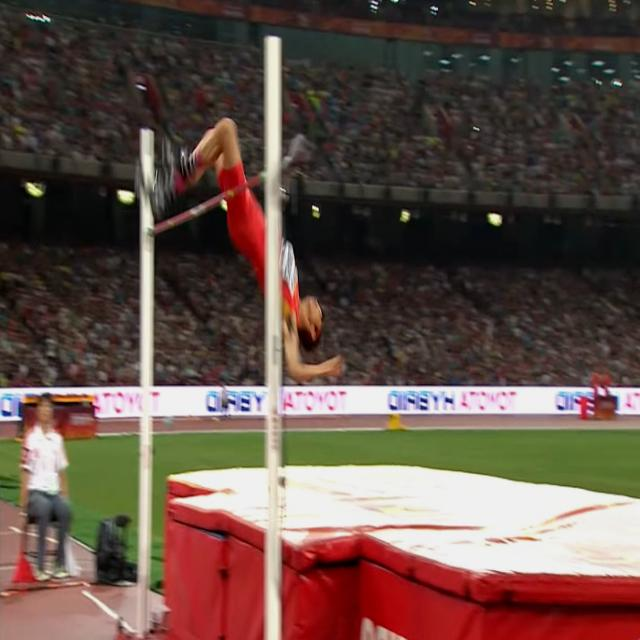land: (139, 118, 349, 384)
